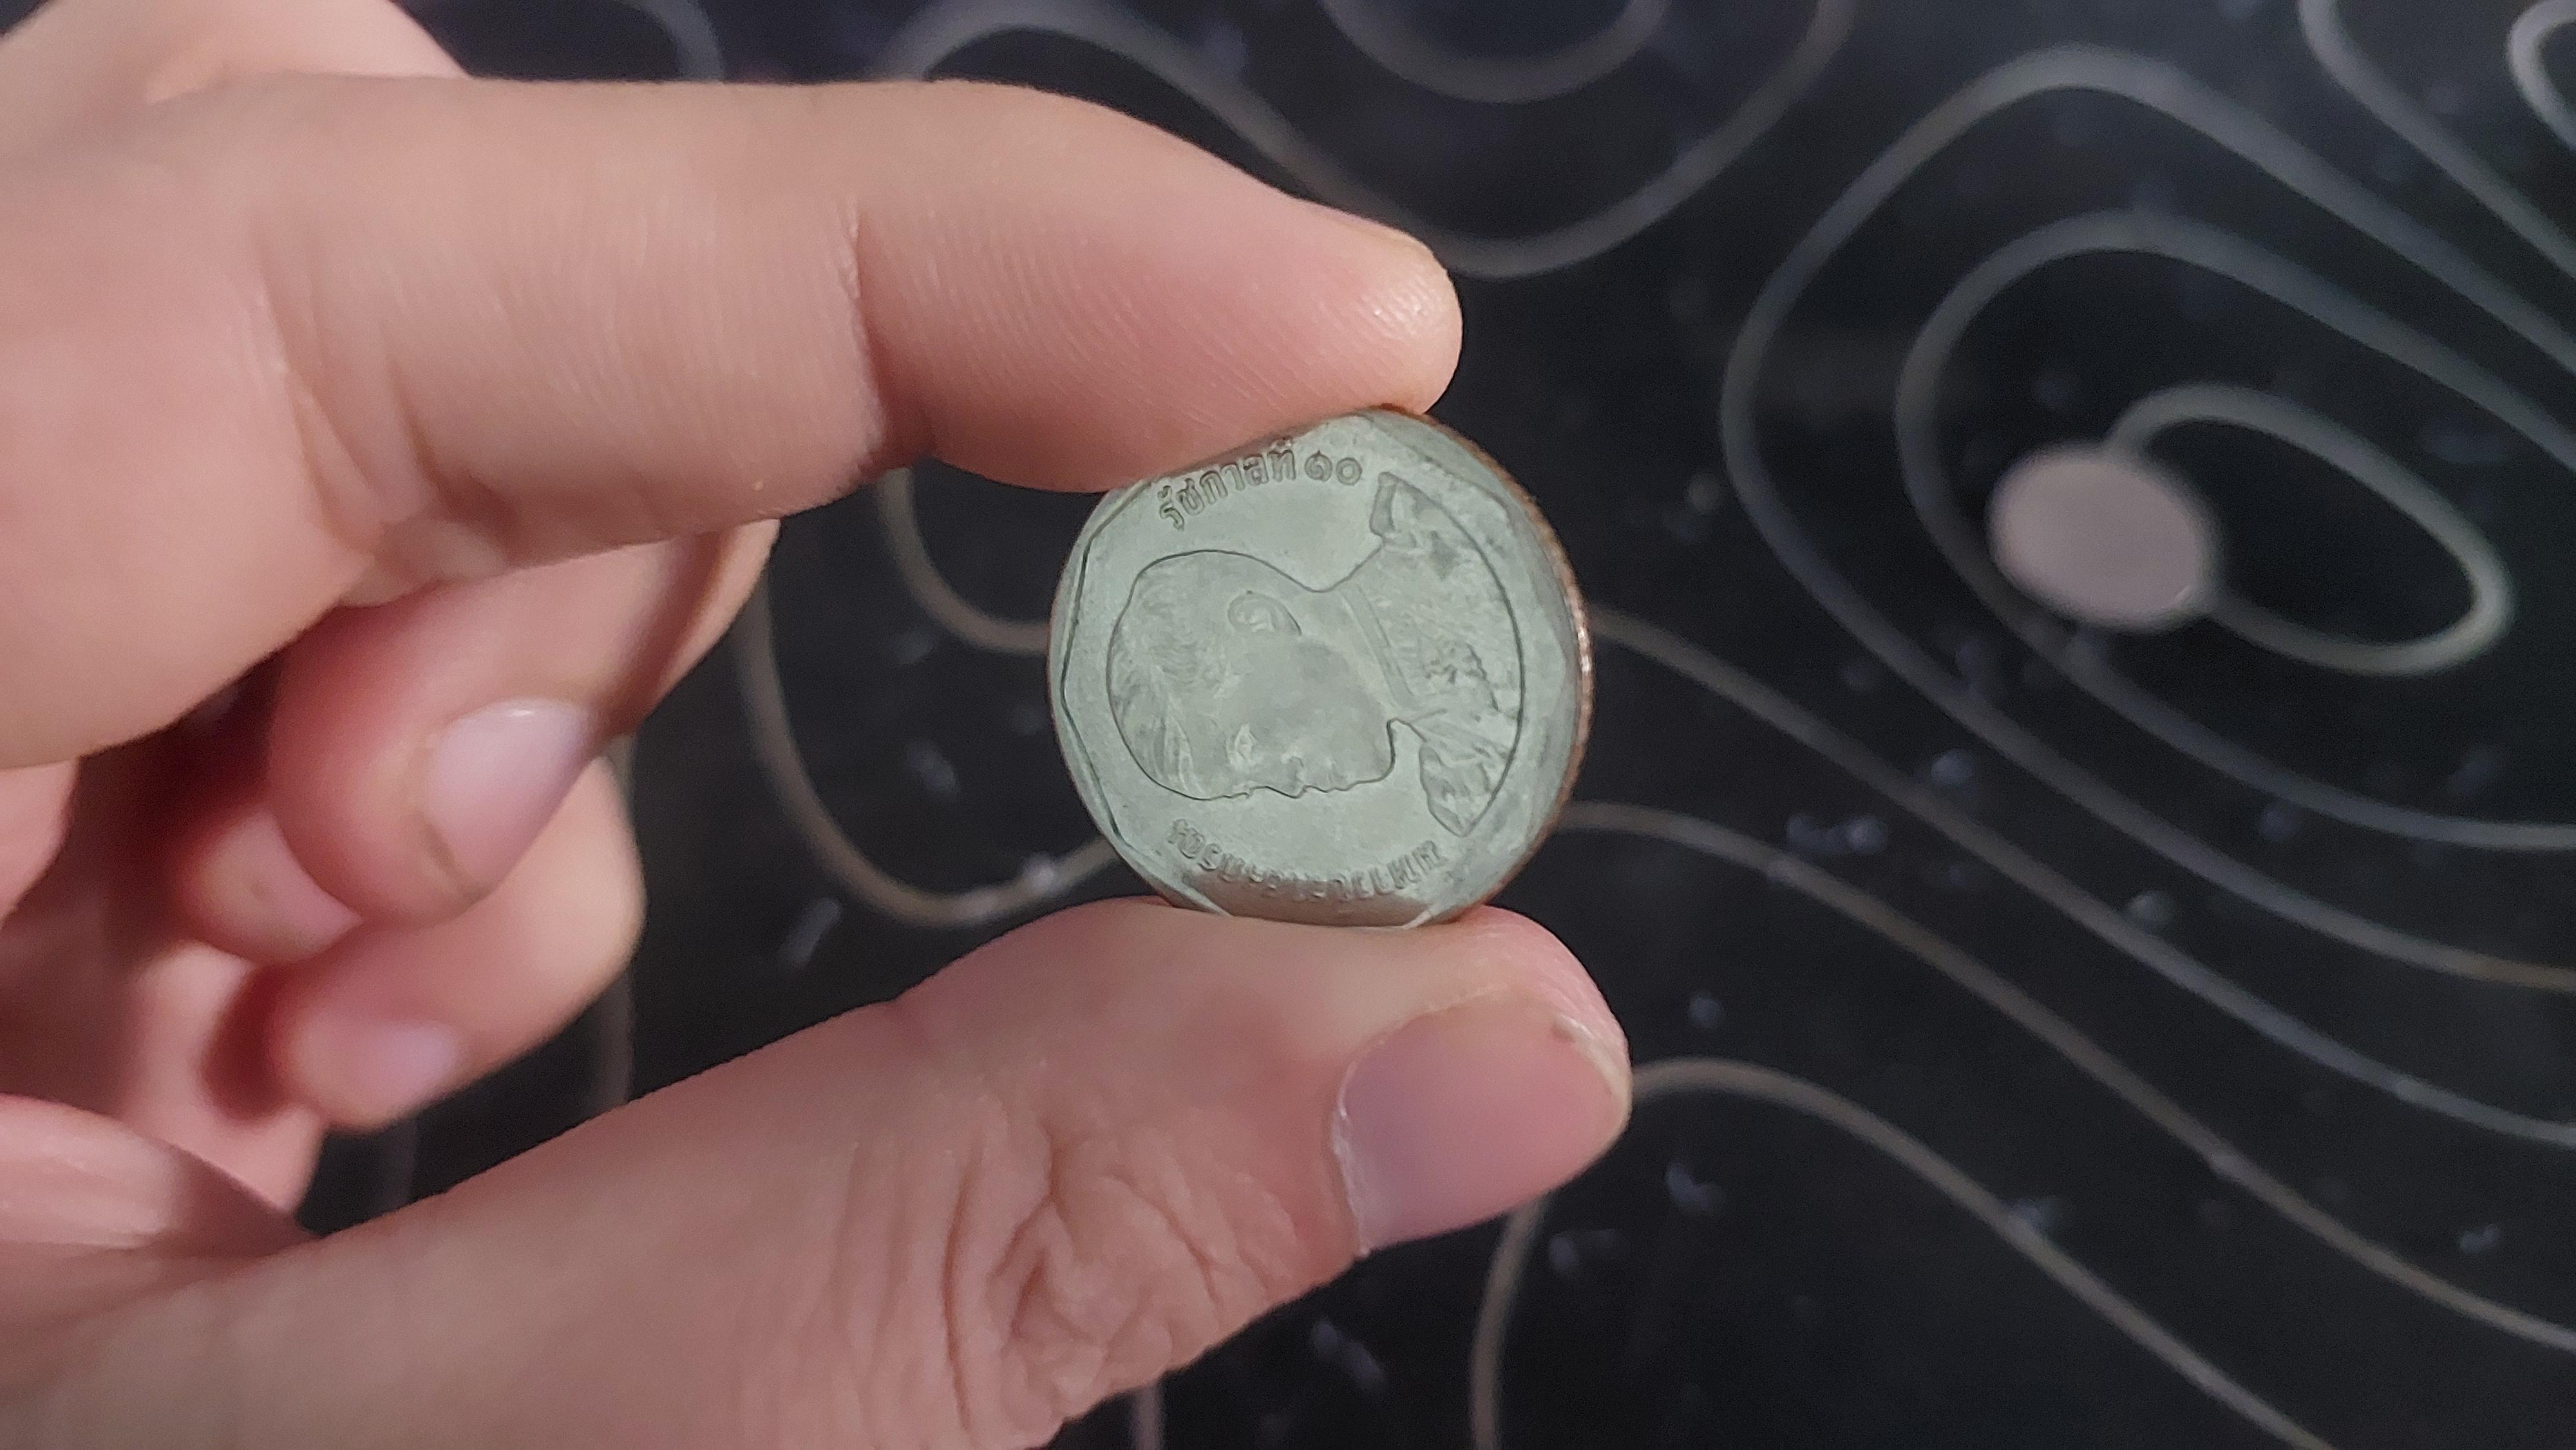5baht: (993, 274, 1743, 1004)
